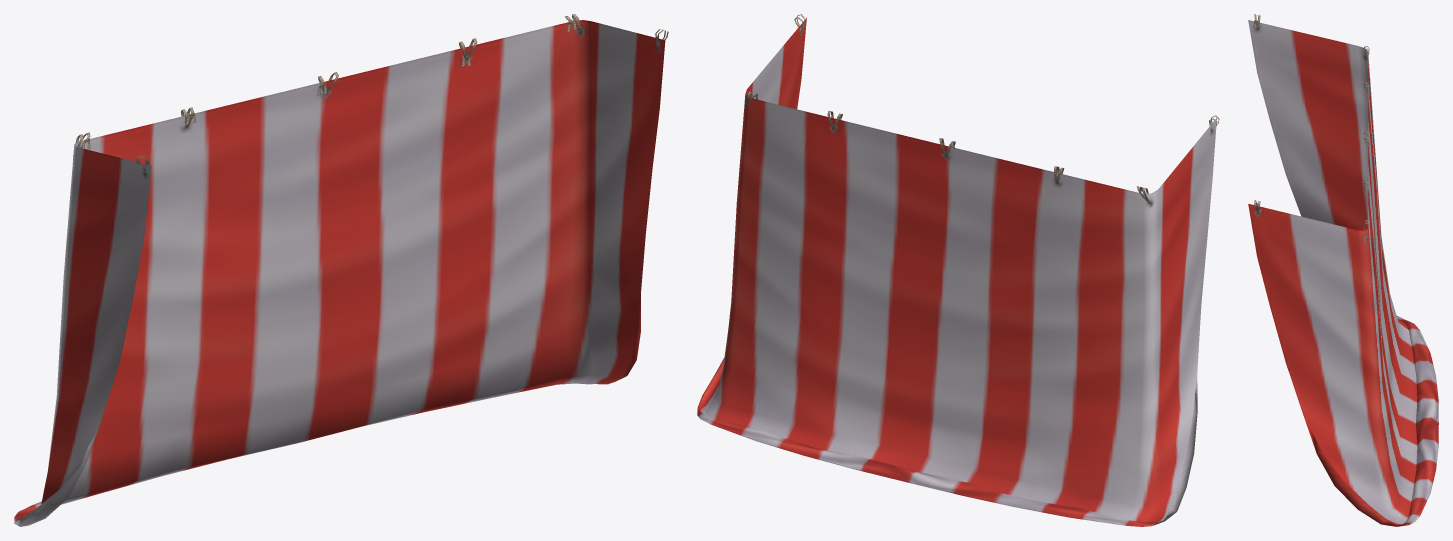
The model's file is jsf_BackSide_s02_c01_t01.fbx.
The picture shows the model from 3 angles, left to right: view 1: azimuth 30°, elevation 25°; view 2: azimuth 150°, elevation 25°; view 3: azimuth 270°, elevation 25°; orthographic projection. The views are drawn at different scales.
Visible parts, largest first — view 1: jsf_BackSide_s02_c01_t01; view 2: jsf_BackSide_s02_c01_t01; view 3: jsf_BackSide_s02_c01_t01.
Boxes of the visible parts, left/top/right/bottom form: jsf_BackSide_s02_c01_t01: left=14, top=14, right=668, bottom=526; jsf_BackSide_s02_c01_t01: left=697, top=14, right=1219, bottom=526; jsf_BackSide_s02_c01_t01: left=1248, top=14, right=1438, bottom=526.
Size of the model in its own units: 296 by 205 by 112.
